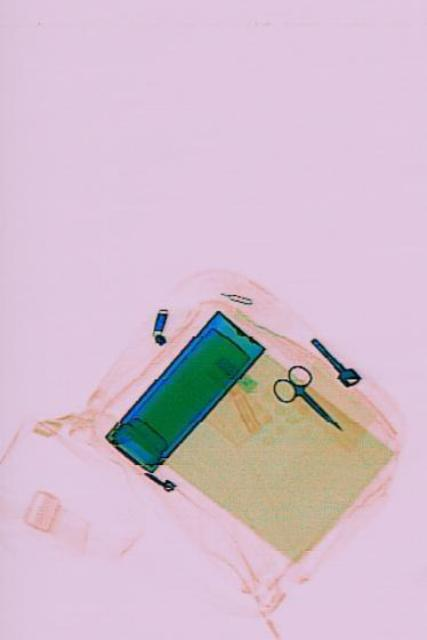Scissors: (266, 350, 350, 450)
